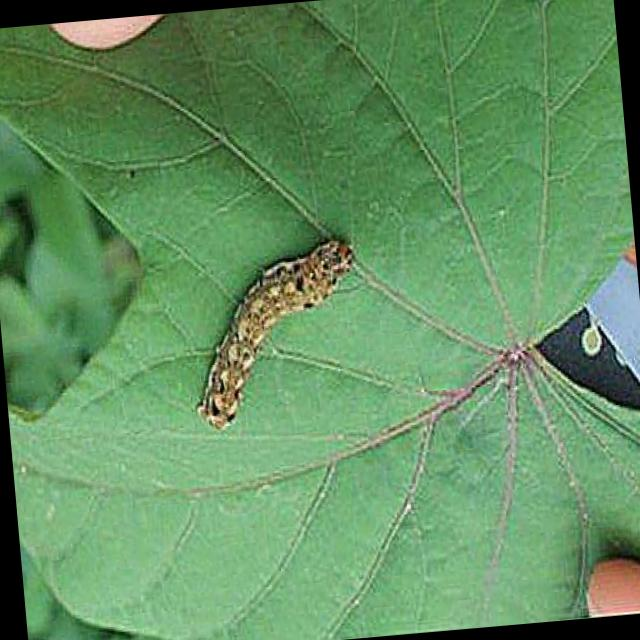Armyworm: (164, 206, 414, 453)
